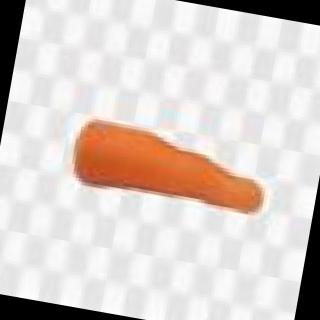Wortel: (56, 101, 279, 241)
